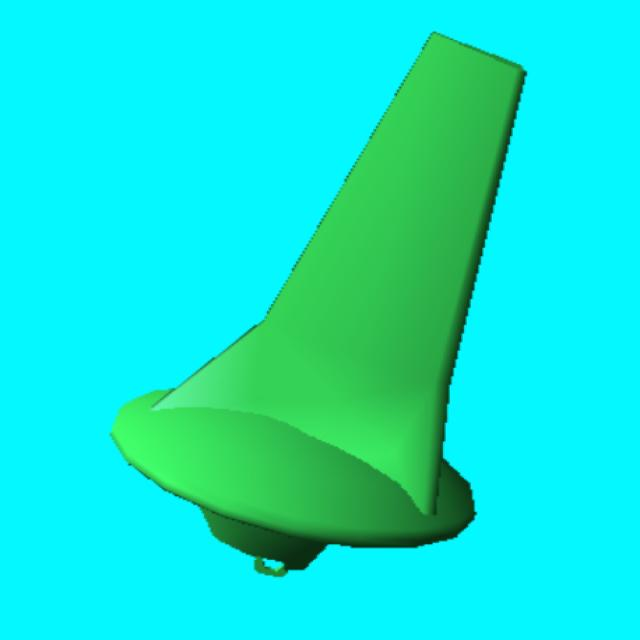GreenBuoy: (113, 34, 524, 569)
